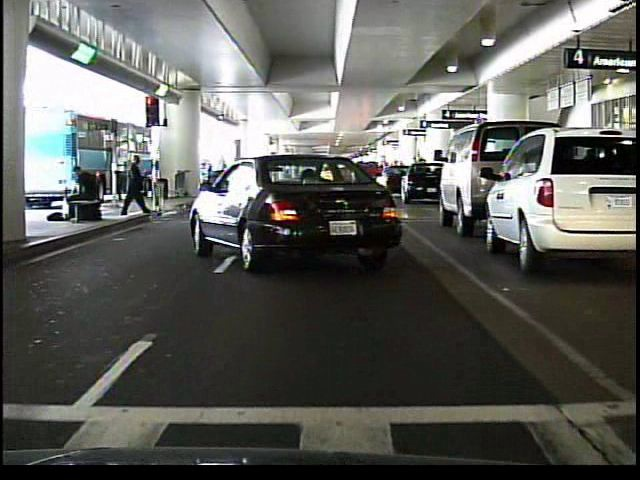person: (63, 163, 100, 228), (116, 149, 144, 215)
